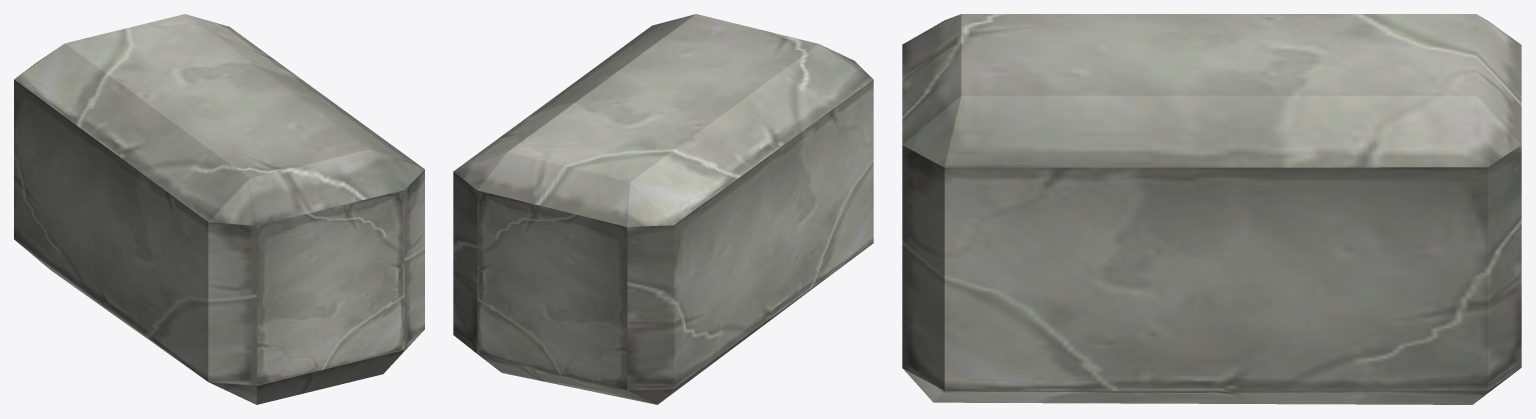
Rendered from Stone_Alone_01.FBX.
3 renders of one model, left to right at view 1: azimuth 30°, elevation 25°; view 2: azimuth 150°, elevation 25°; view 3: azimuth 270°, elevation 25°, orthographic. The views are drawn at different scales.
Parts seen in each view (by area): view 1: Stone_Alone_01; view 2: Stone_Alone_01; view 3: Stone_Alone_01.
Boxes of the visible parts, box(x1,y1,x2,y2) form: Stone_Alone_01: box(14, 14, 424, 404); Stone_Alone_01: box(453, 14, 873, 404); Stone_Alone_01: box(902, 14, 1521, 404).
Size of the model in its own units: 29.71 by 28.64 by 52.76.
